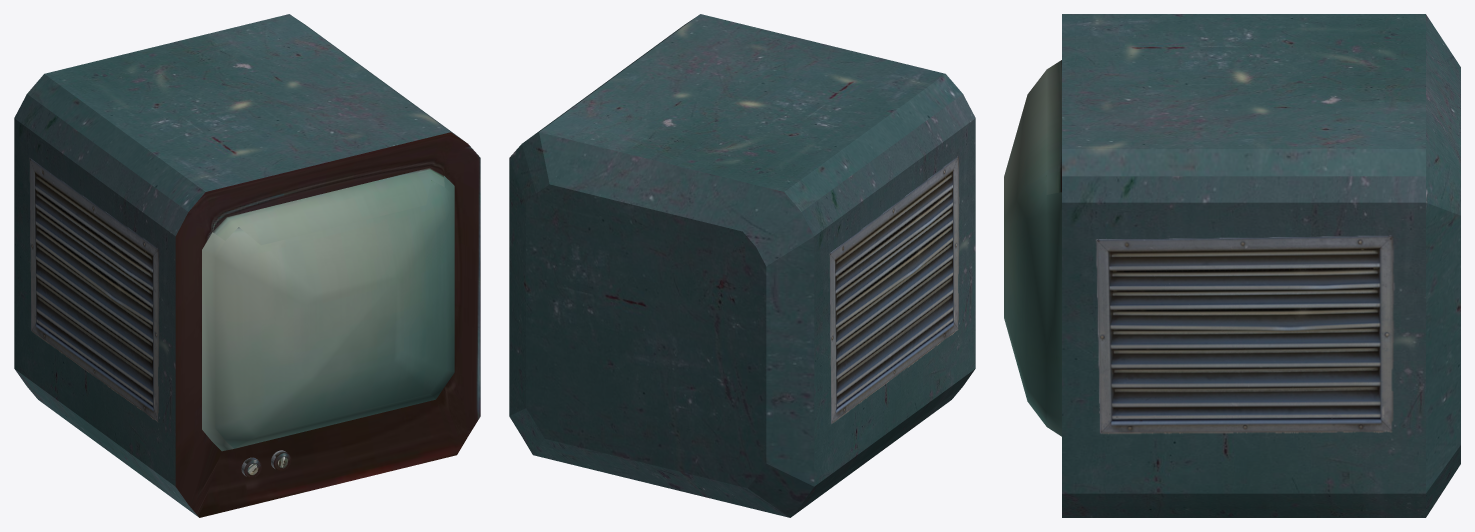
File: OldTV.fbx
3 views of the same model, side by side, from view 1: azimuth 30°, elevation 25°; view 2: azimuth 150°, elevation 25°; view 3: azimuth 270°, elevation 25° (orthographic). The views are drawn at different scales.
Visible parts, largest first — view 1: Cube; view 2: Cube; view 3: Cube.
Part boxes in pixels (x1,y1,x2,y2): Cube: (14,14,480,517); Cube: (509,14,975,517); Cube: (1004,14,1460,517).
Size of the model in its own units: 0.4484 by 0.5159 by 0.4557.
